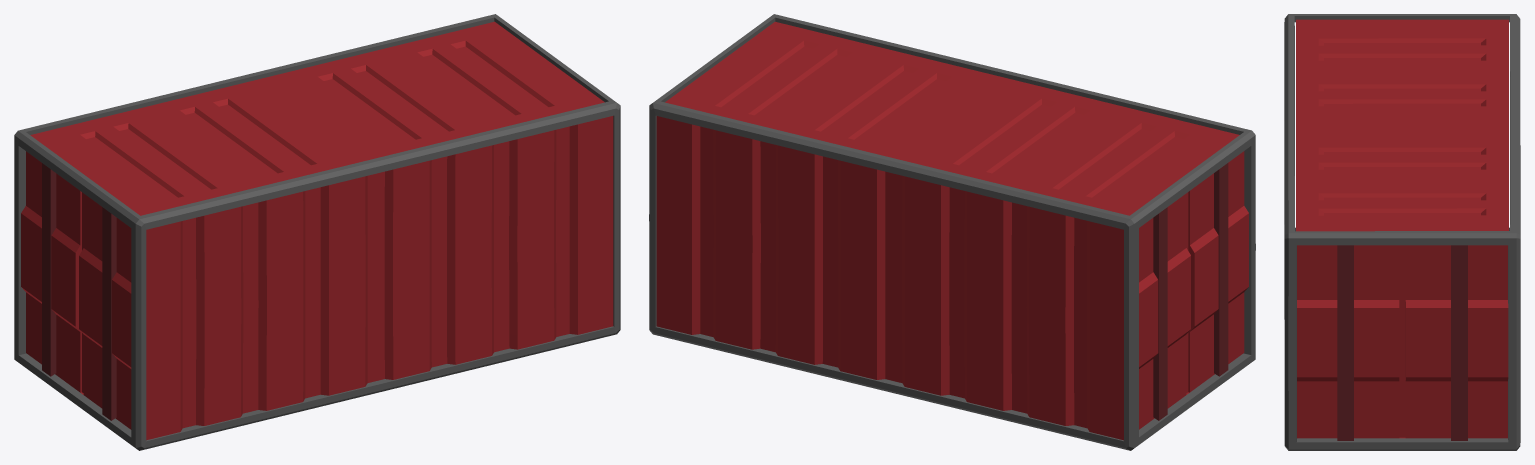
Rendered from prop-container.glb.
The picture shows the model from 3 angles, left to right: view 1: azimuth 30°, elevation 25°; view 2: azimuth 150°, elevation 25°; view 3: azimuth 270°, elevation 25°; orthographic projection. The views are drawn at different scales.
Parts seen in each view (by area): view 1: container; view 2: container; view 3: container.
Boxes of the visible parts, left/top/right/bottom form: container: left=14, top=14, right=620, bottom=450; container: left=649, top=14, right=1255, bottom=450; container: left=1284, top=14, right=1520, bottom=450.
Bounding box in the file's own units: 5.71 × 2.6 × 2.56.
